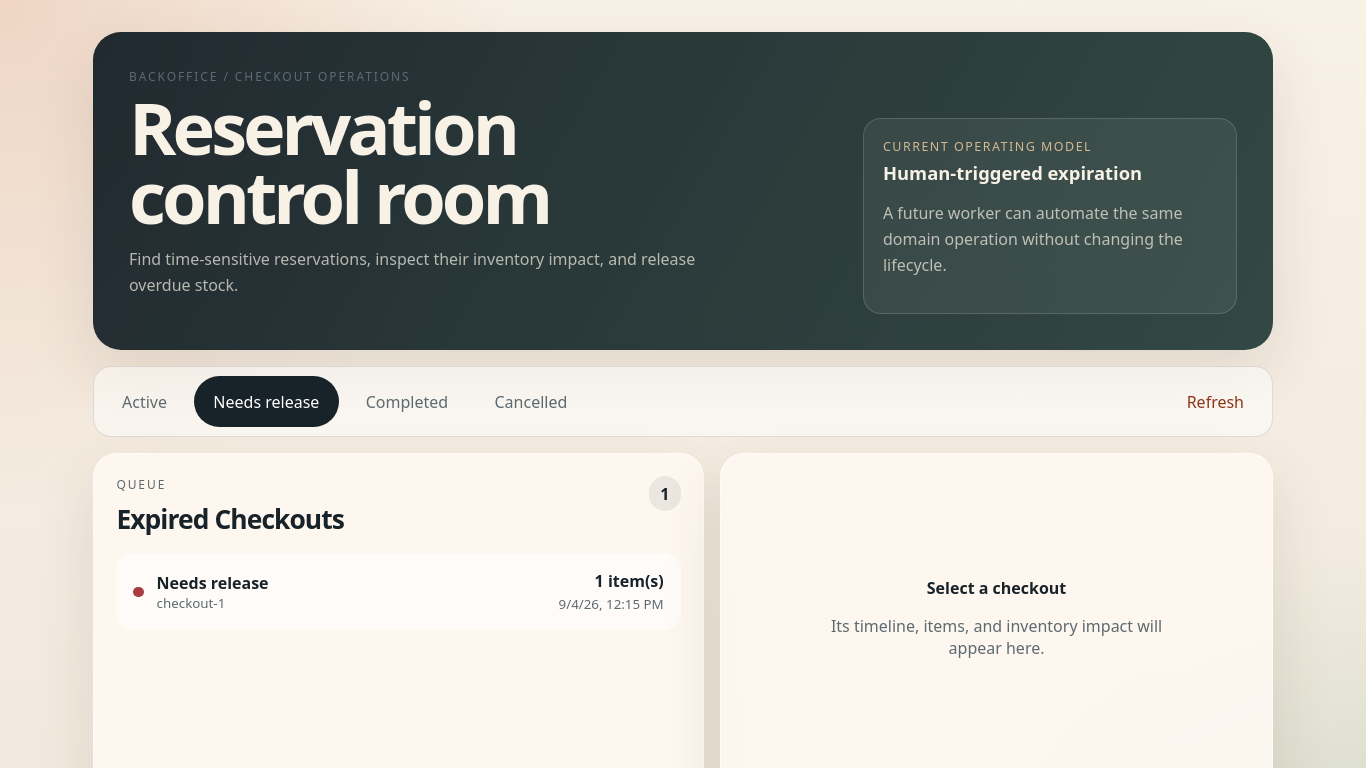
Test: AdminCheckoutsComponent › should show reservation details and the expiration action after selection
The width and height of the screenshot is (1366, 768).
Click the button with class "checkout-row": point(213, 583) [116,553,681,630]
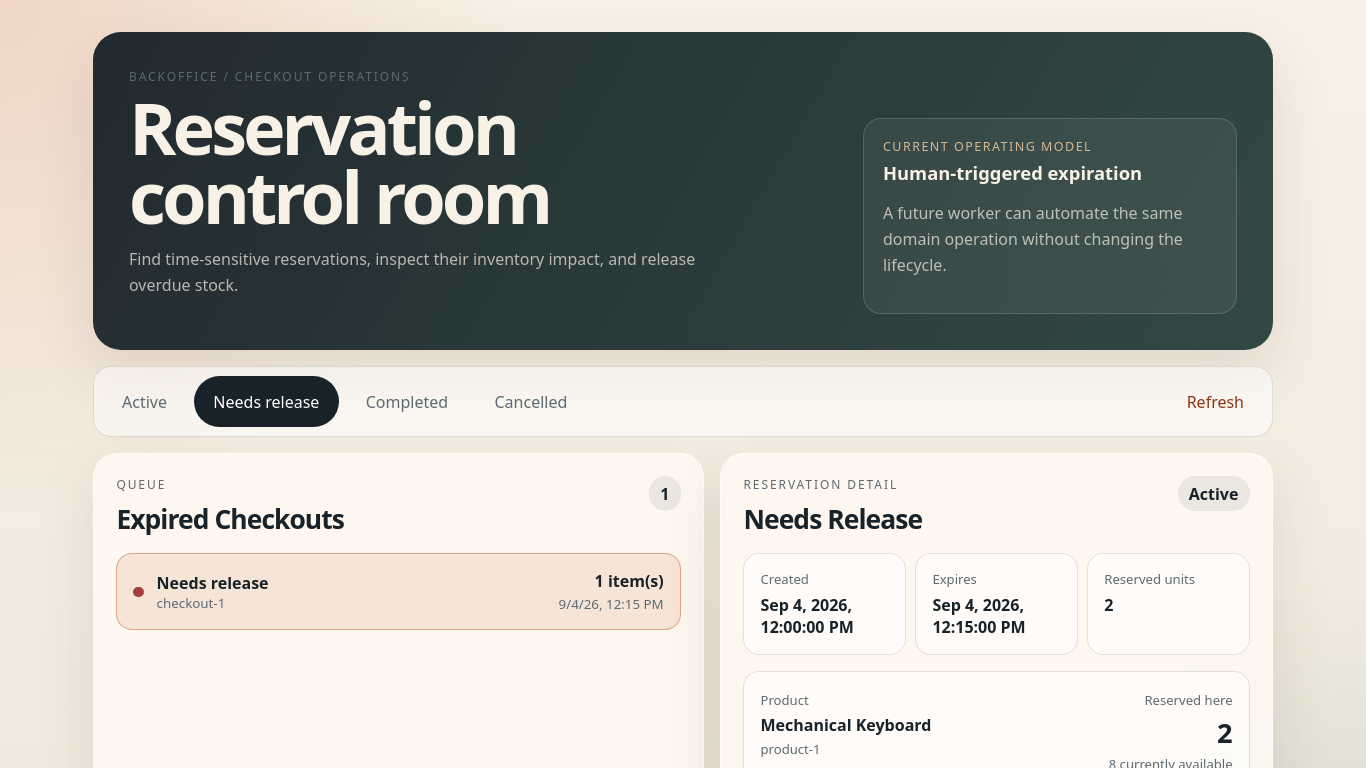
Expected: the text "Mechanical Keyboard" is shown, [760,714,931,736]
